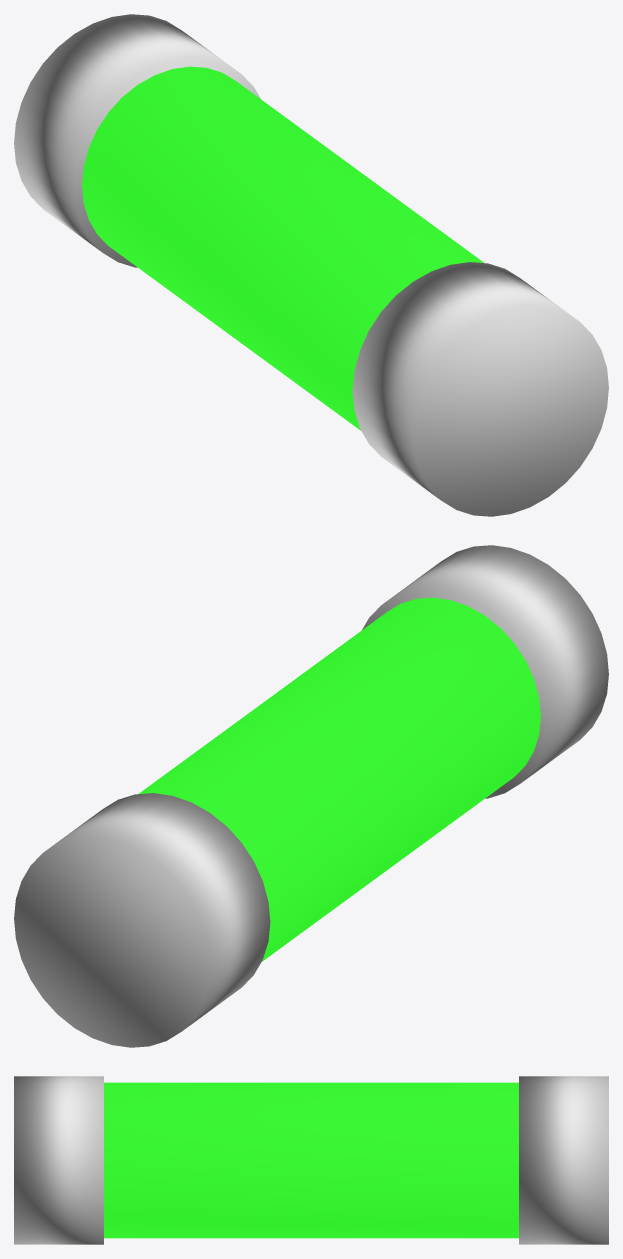
Rendered from fuzegreen.glb.
3 views of the same model, one above another, from view 1: azimuth 30°, elevation 25°; view 2: azimuth 150°, elevation 25°; view 3: azimuth 270°, elevation 25° (orthographic). The views are drawn at different scales.
Parts seen in each view (by area): view 1: Cylinder, Cylinder.002, Cylinder.001; view 2: Cylinder, Cylinder.001, Cylinder.002; view 3: Cylinder, Cylinder.001, Cylinder.002.
Boxes of the visible parts, bbox=[...] form: Cylinder: bbox=[82, 66, 483, 430]; Cylinder.002: bbox=[352, 262, 608, 516]; Cylinder.001: bbox=[14, 14, 260, 267]; Cylinder: bbox=[139, 597, 540, 961]; Cylinder.001: bbox=[14, 793, 270, 1047]; Cylinder.002: bbox=[362, 545, 608, 798]; Cylinder: bbox=[104, 1082, 518, 1238]; Cylinder.001: bbox=[519, 1076, 608, 1244]; Cylinder.002: bbox=[14, 1076, 103, 1244].
Size of the model in its own units: 2.17 by 2.17 by 7.65.
